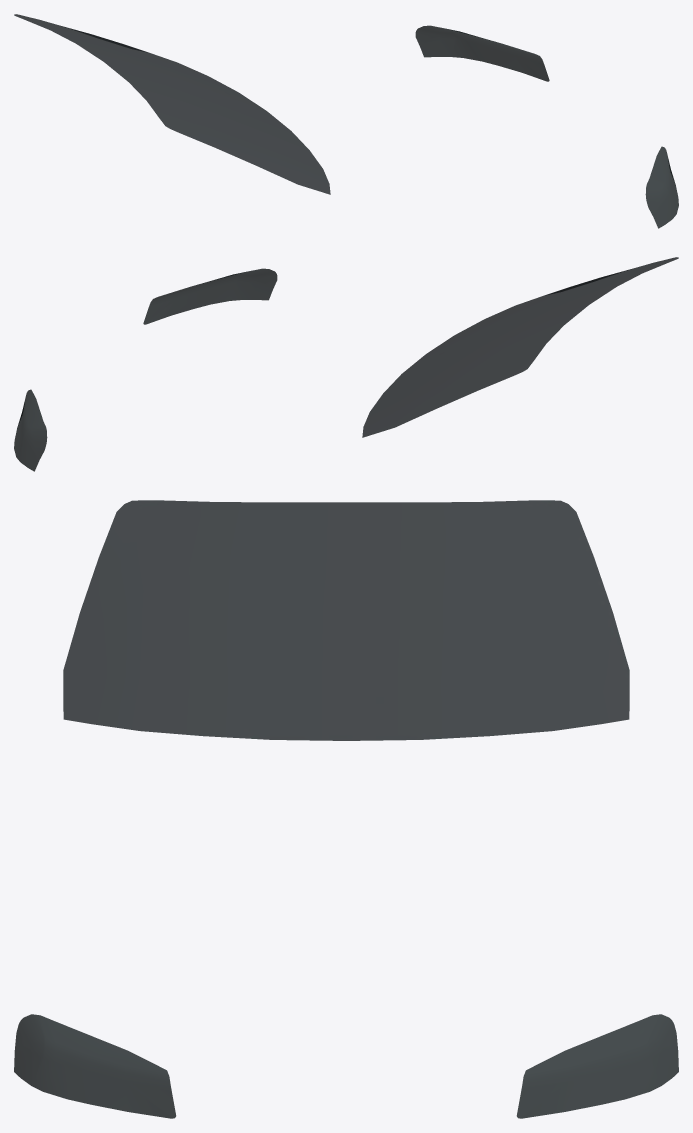
The model's file is gallo99_windshield_ucb_lights_and_glass_transperent_0.002_lev3.glb.
3 views of the same model, one above another, from view 1: azimuth 30°, elevation 25°; view 2: azimuth 150°, elevation 25°; view 3: azimuth 270°, elevation 25° (orthographic). The views are drawn at different scales.
Visible parts, largest first — view 1: gallo99_windshield_ucb_lights_and_glass_transperent_0.002_le; view 2: gallo99_windshield_ucb_lights_and_glass_transperent_0.002_le; view 3: gallo99_windshield_ucb_lights_and_glass_transperent_0.002_le.
Boxes of the visible parts, x1,y1,x2,y2 form: gallo99_windshield_ucb_lights_and_glass_transperent_0.002_le: [14, 14, 678, 228]; gallo99_windshield_ucb_lights_and_glass_transperent_0.002_le: [14, 257, 678, 471]; gallo99_windshield_ucb_lights_and_glass_transperent_0.002_le: [14, 500, 678, 1118].
Bounding box in the file's own units: 2.02 × 0.6995 × 1.58.
Materials: 1 (1 with a texture image).
